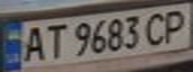3: (121, 12, 145, 50)
6: (90, 17, 109, 55)
8: (106, 16, 127, 52)
9: (69, 19, 93, 57)
A: (18, 24, 48, 62)
C: (139, 9, 172, 46)
P: (157, 7, 193, 44)
T: (39, 21, 69, 61)
